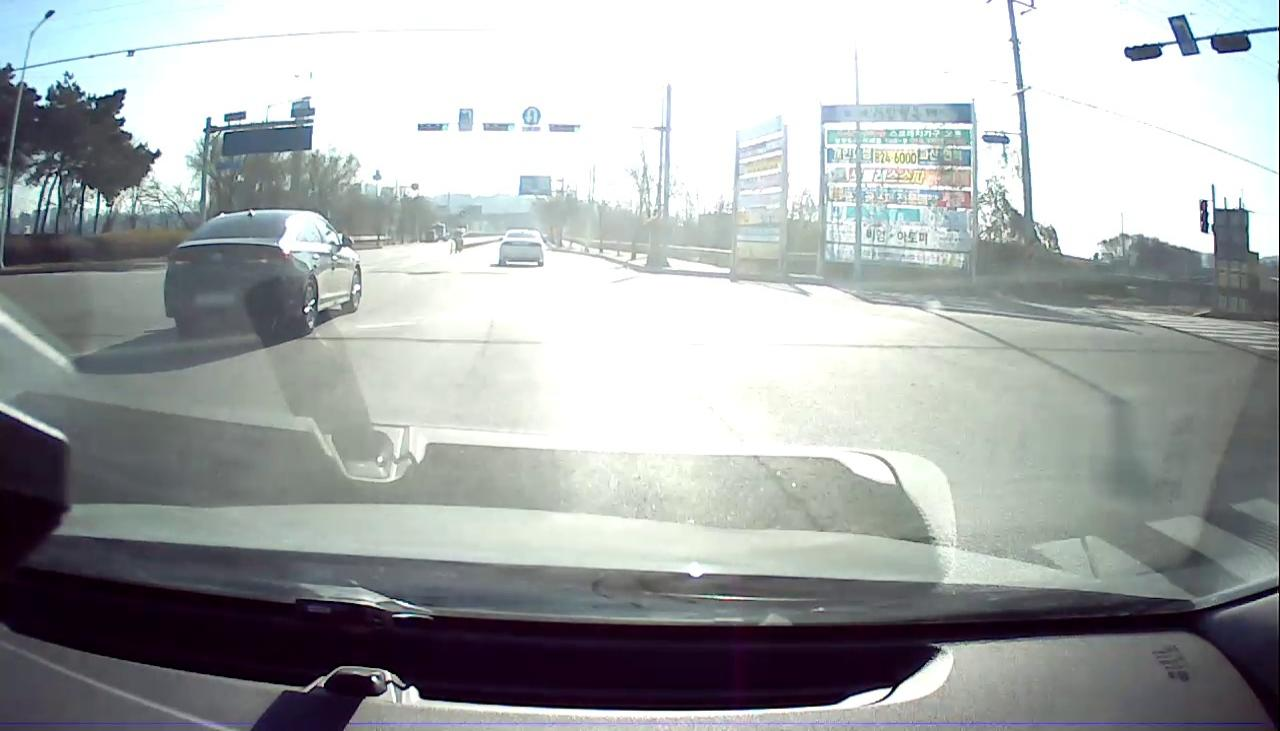Green Light: (506, 123, 515, 132), (440, 124, 449, 132), (572, 126, 580, 134)
